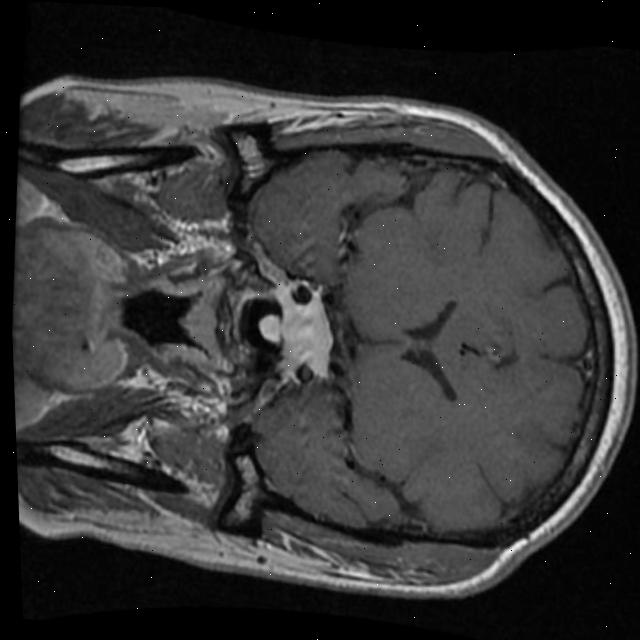Pituitary: (278, 300, 337, 371), (255, 312, 280, 345)
